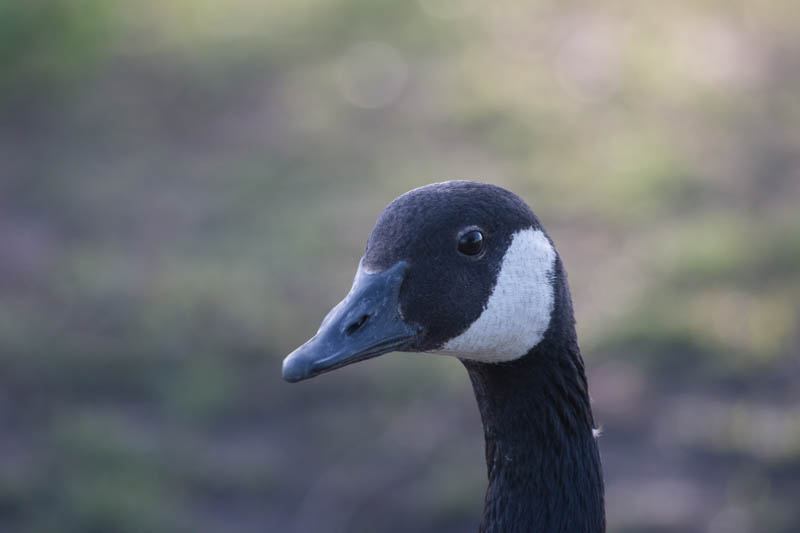goose-head: (281, 180, 577, 383)
